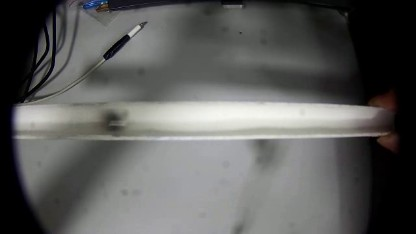gangzhu: (99, 108, 128, 132)
